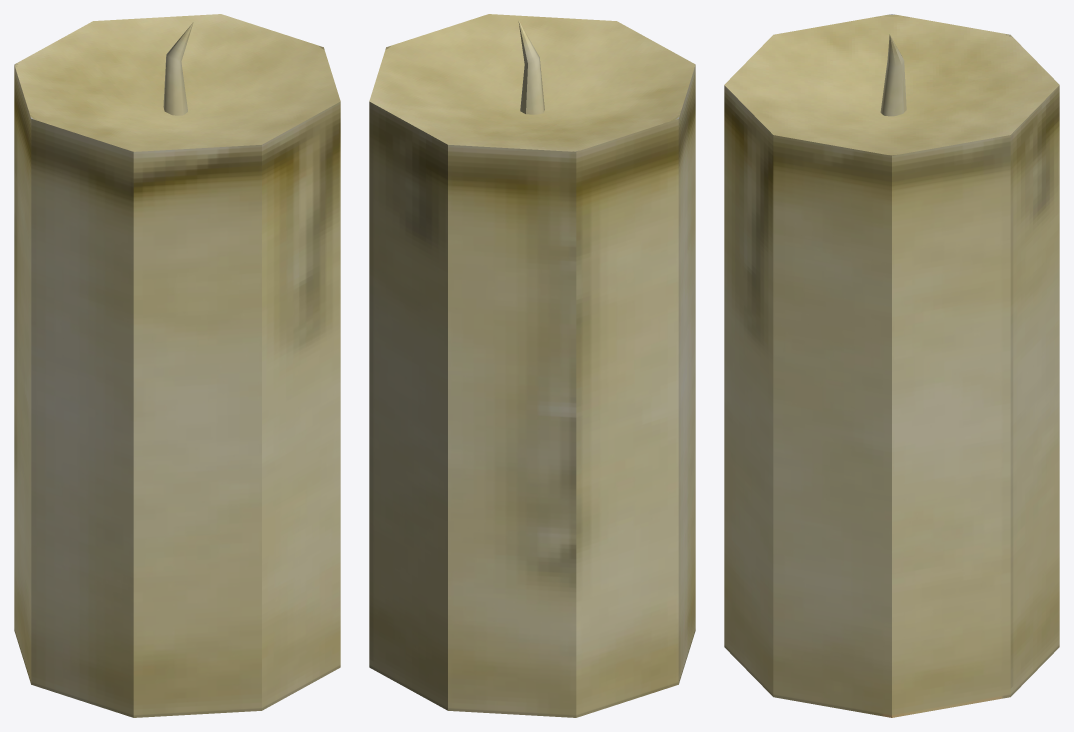
File: candal.fbx
3 views of the same model, side by side, from view 1: azimuth 30°, elevation 25°; view 2: azimuth 150°, elevation 25°; view 3: azimuth 270°, elevation 25° (orthographic).
Parts seen in each view (by area): view 1: pCylinder1, pCone1; view 2: pCylinder1, pCone1; view 3: pCylinder1, pCone1.
Boxes of the visible parts, bbox=[...] form: pCylinder1: bbox=[14, 14, 340, 717]; pCone1: bbox=[163, 22, 193, 115]; pCylinder1: bbox=[369, 14, 695, 717]; pCone1: bbox=[518, 20, 544, 114]; pCylinder1: bbox=[724, 14, 1059, 717]; pCone1: bbox=[880, 34, 906, 116].
Bounding box in the file's own units: 2 × 4.08 × 2.
